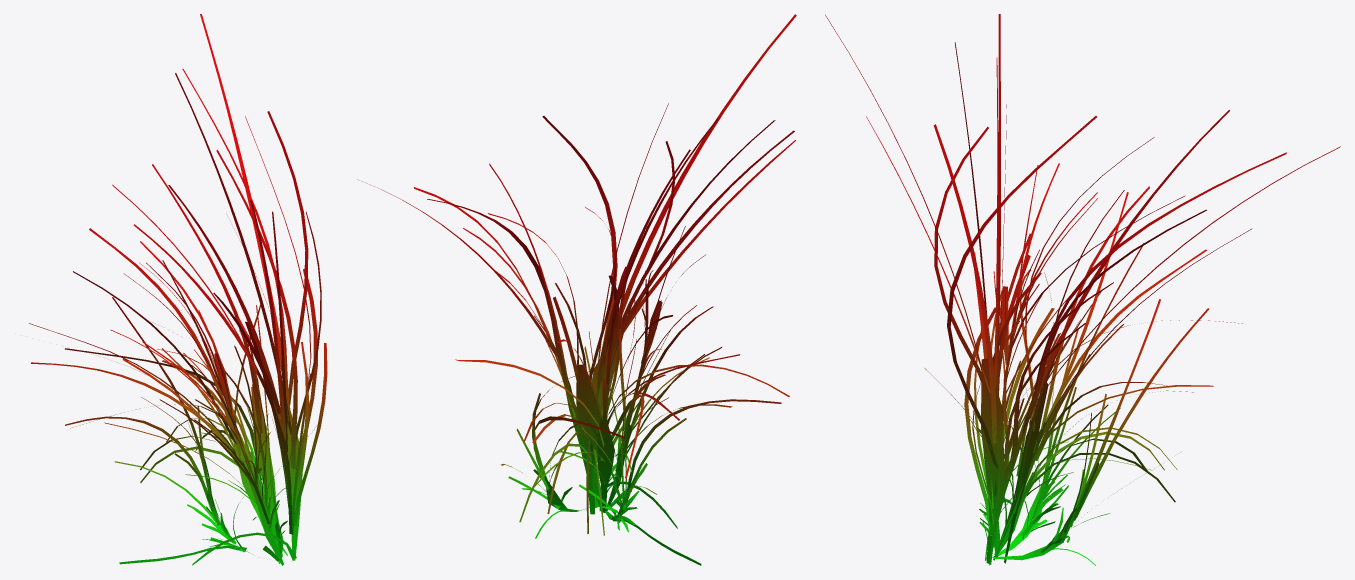
File: Sea Wheatgrass_LOD1_Var1_ui2oagjia.fbx
The picture shows the model from 3 angles, left to right: view 1: azimuth 30°, elevation 25°; view 2: azimuth 150°, elevation 25°; view 3: azimuth 270°, elevation 25°; orthographic projection. The views are drawn at different scales.
Visible parts, largest first — view 1: _p379_Var1_LOD1; view 2: _p379_Var1_LOD1; view 3: _p379_Var1_LOD1.
Part boxes in pixels (bbox=[...]): _p379_Var1_LOD1: bbox=[29, 14, 327, 565]; _p379_Var1_LOD1: bbox=[357, 14, 796, 565]; _p379_Var1_LOD1: bbox=[825, 14, 1340, 565].
Size of the model in its own units: 59.34 by 90.66 by 86.45.
